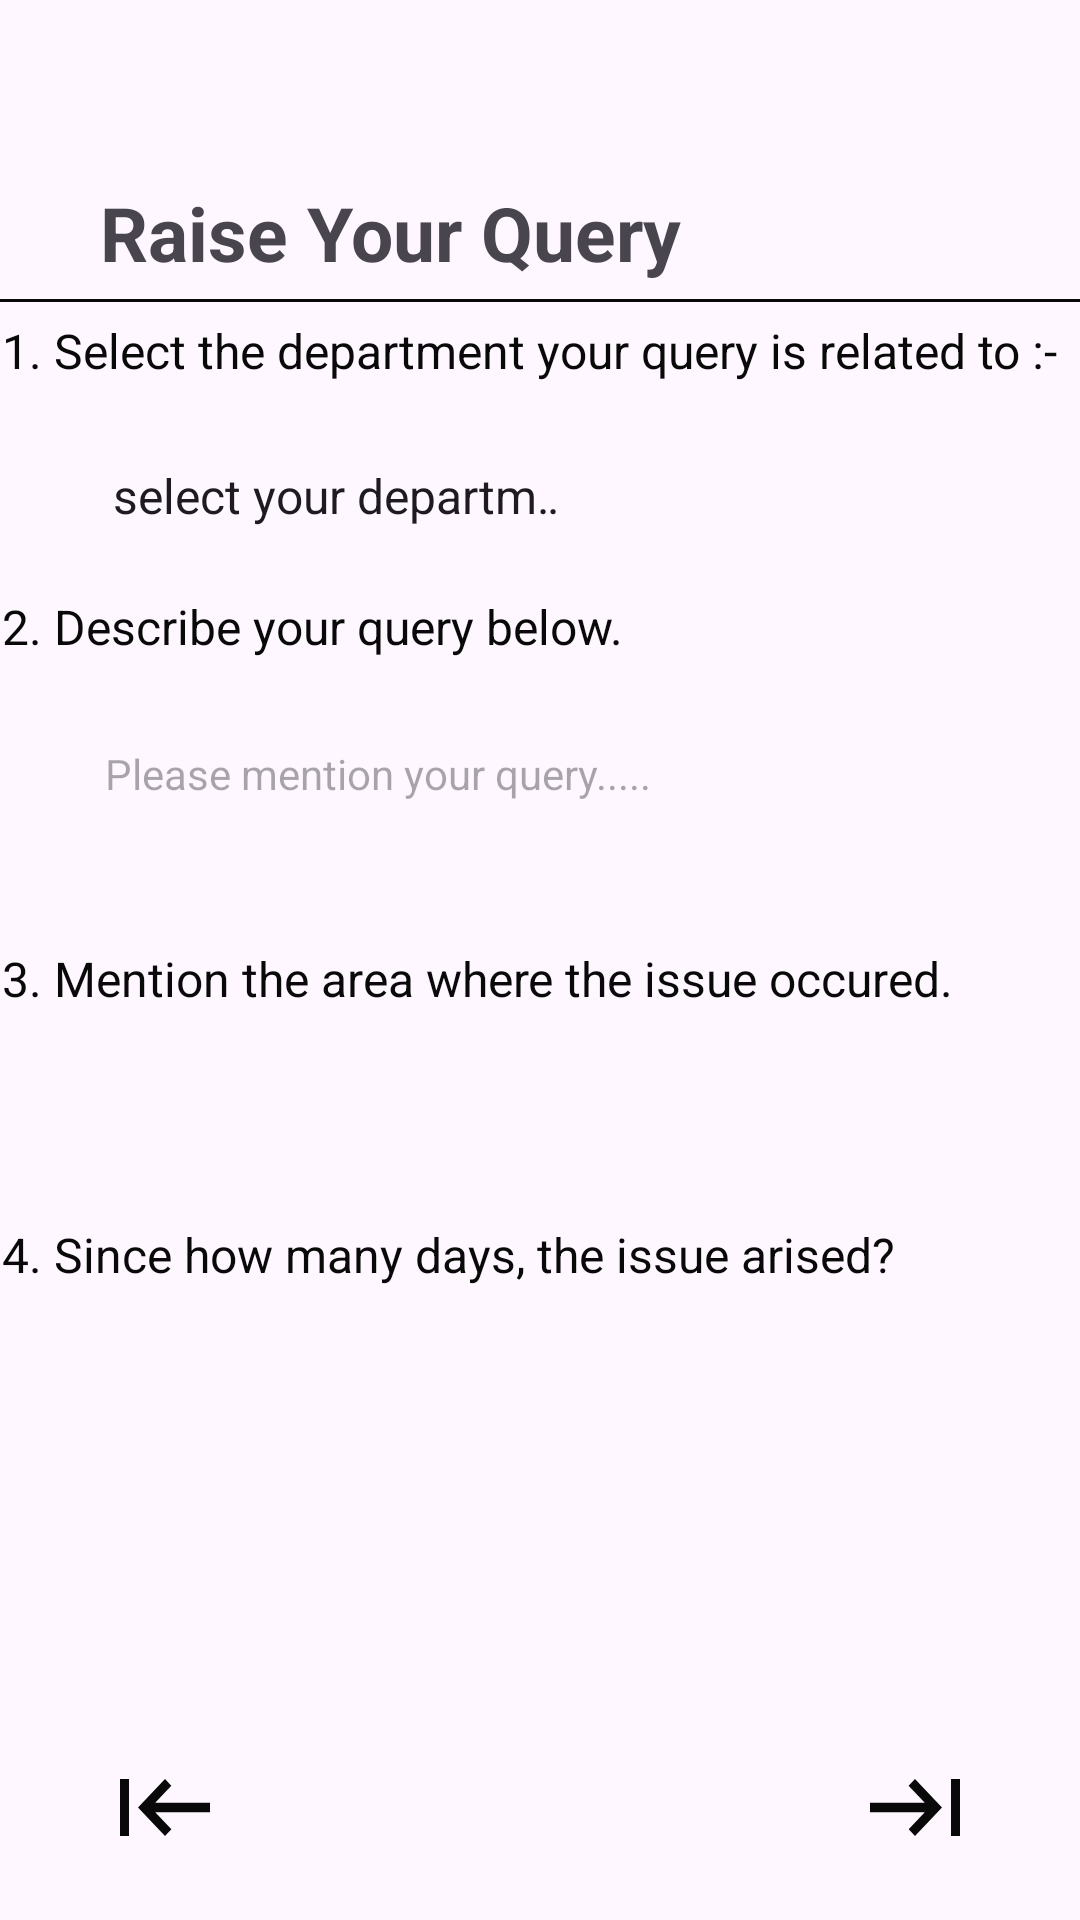

Icon click points for this 1080x1920 phone screenshot, format (x=x, y=y):
back: (x=165, y=1807)
next: (x=915, y=1807)
